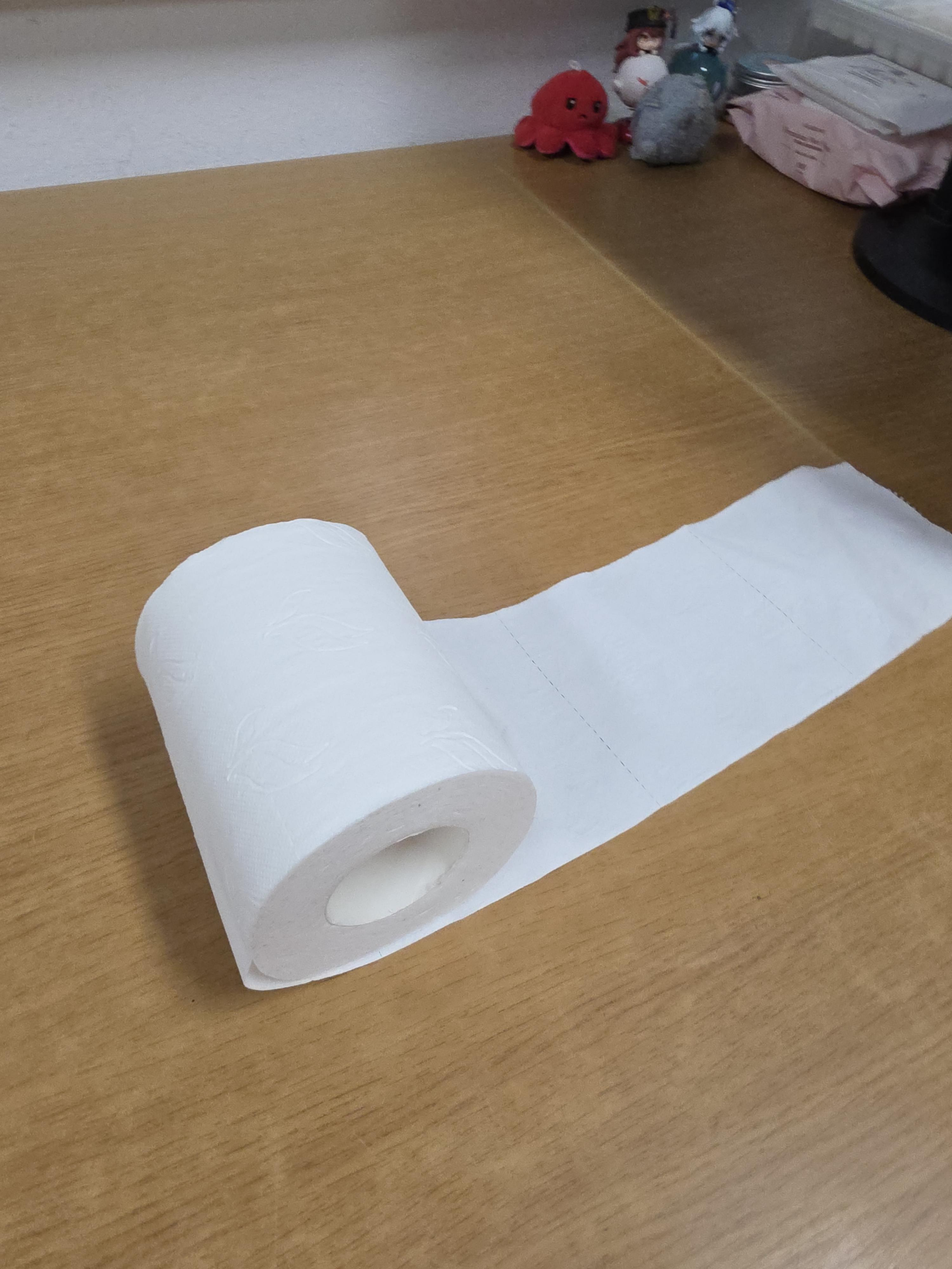tissue: (135, 460, 951, 990)
